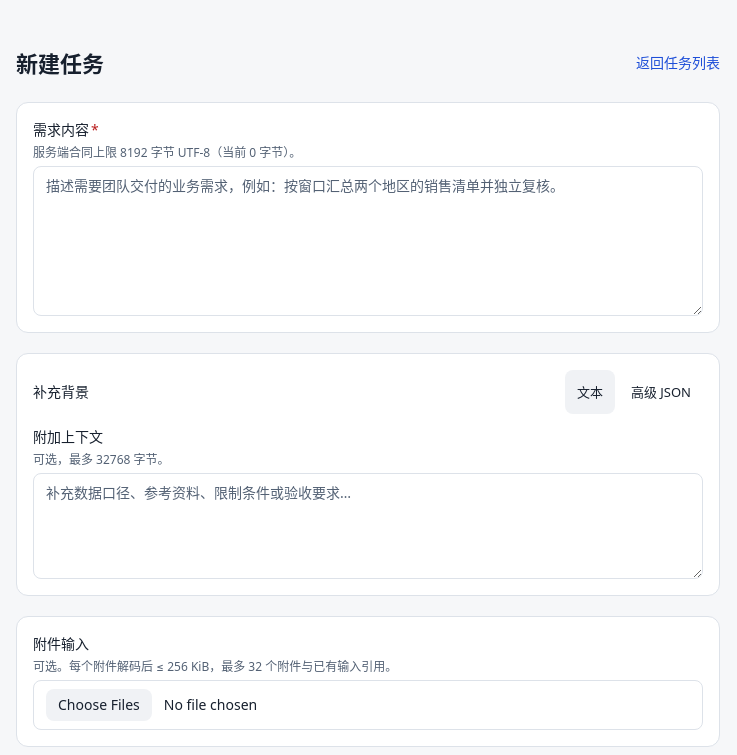
Test: TaskNewComposer 提交流程 › UI-01：501 unsupported_operation 是明确拒绝，不提供同键重放
Type "生成对账报告" into the text box labelled "需求内容*" at (368, 241), box [33,166,703,316]
(page scrolled)
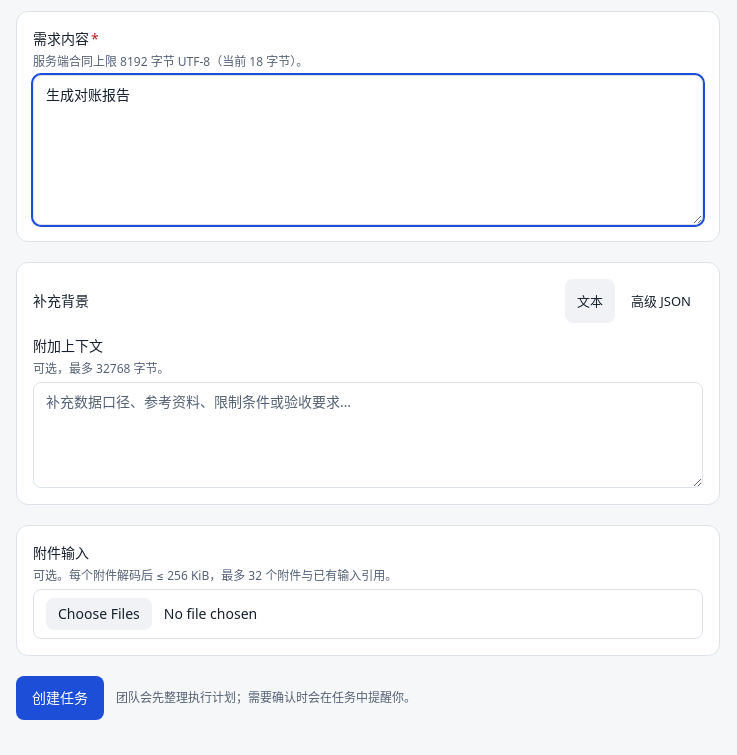
Click the button "创建任务" at (60, 698), box [16,676,104,720]
(page scrolled)
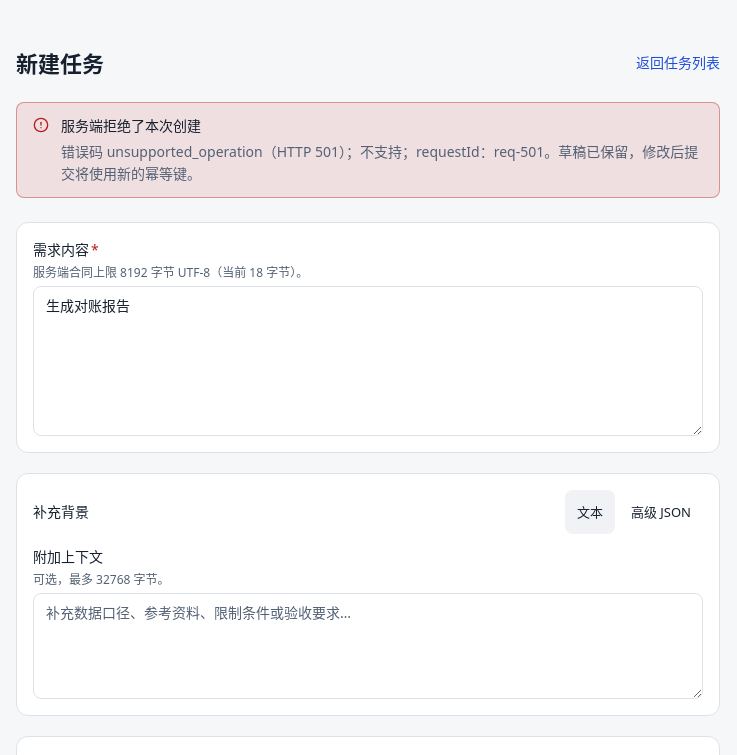
Expected: the message shows "服务端拒绝了本次创建", [61,116,201,135]
Expected: the message shows "HTTP 501", [61,142,698,183]
